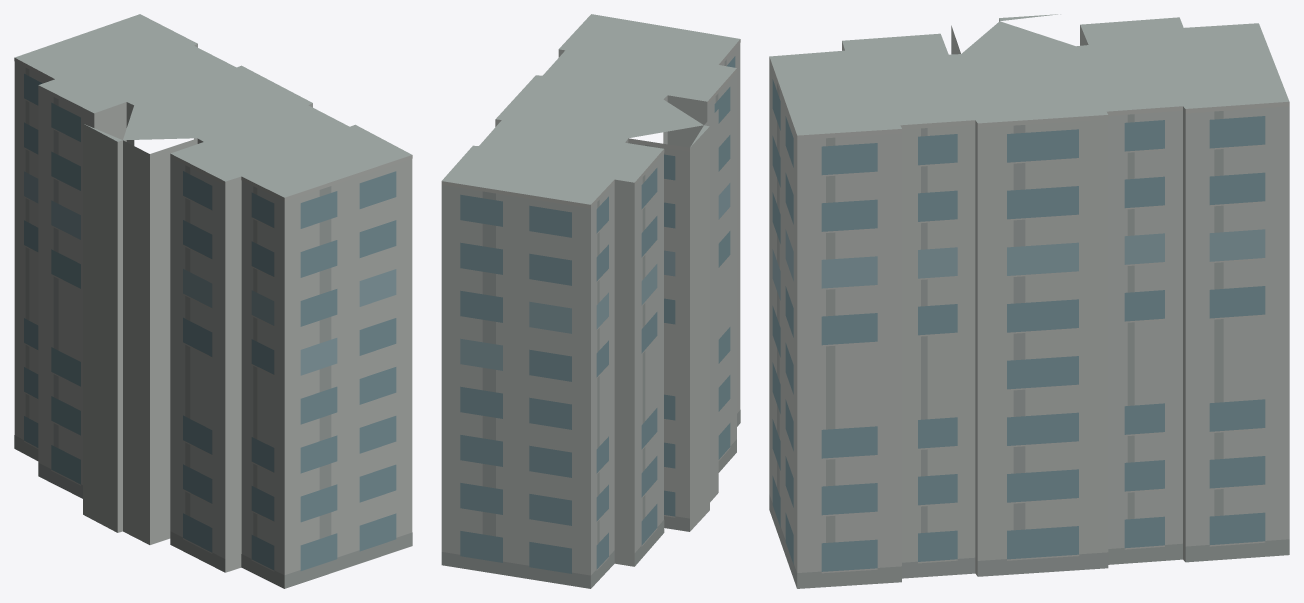
File: survey-upis-32800093.glb
The picture shows the model from 3 angles, left to right: view 1: azimuth 30°, elevation 25°; view 2: azimuth 150°, elevation 25°; view 3: azimuth 270°, elevation 25°; orthographic projection. The views are drawn at different scales.
Visible parts, largest first — view 1: survey-upis-32800093.tmp; view 2: survey-upis-32800093.tmp; view 3: survey-upis-32800093.tmp.
Boxes of the visible parts, x1,y1,x2,y2 form: survey-upis-32800093.tmp: (14,14,412,588); survey-upis-32800093.tmp: (441,14,740,588); survey-upis-32800093.tmp: (769,14,1289,588).
Size of the model in its own units: 14.01 by 24.35 by 25.33.
